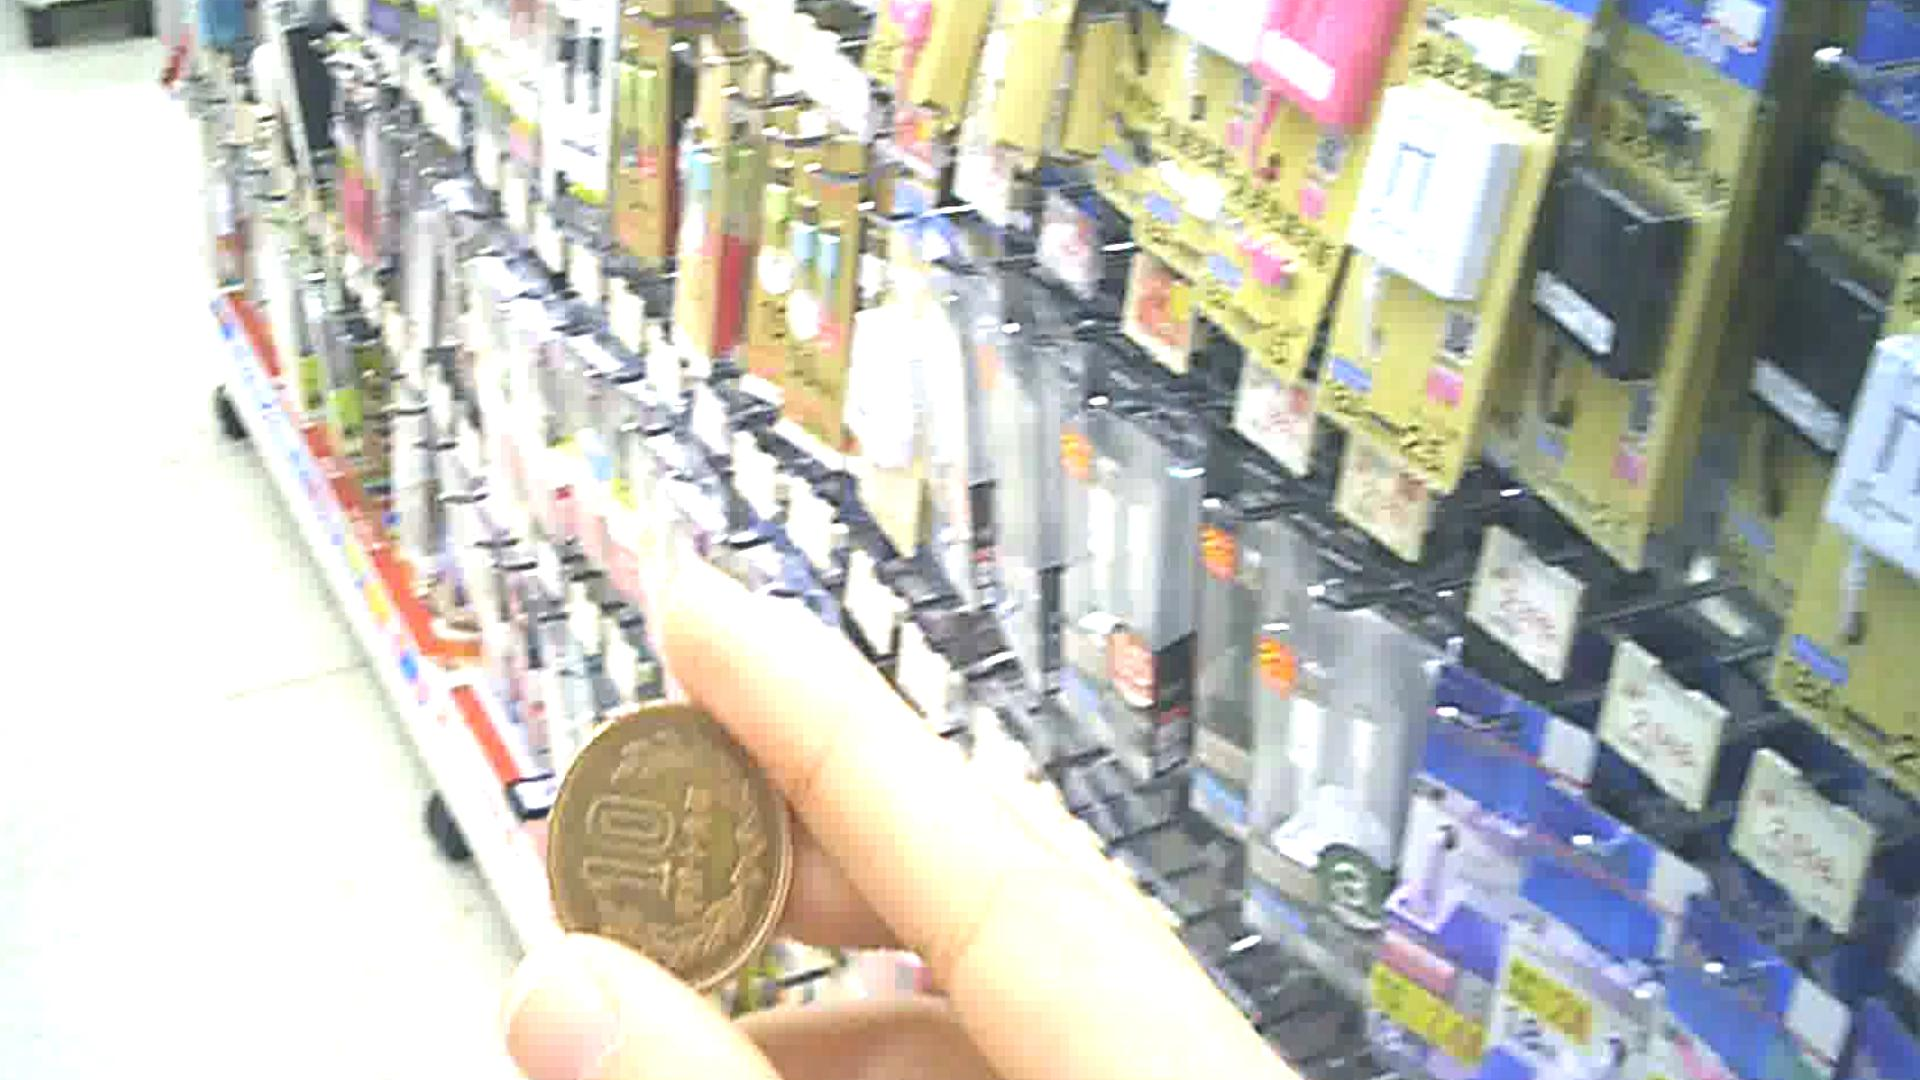10 Yen: (541, 716, 819, 996)
